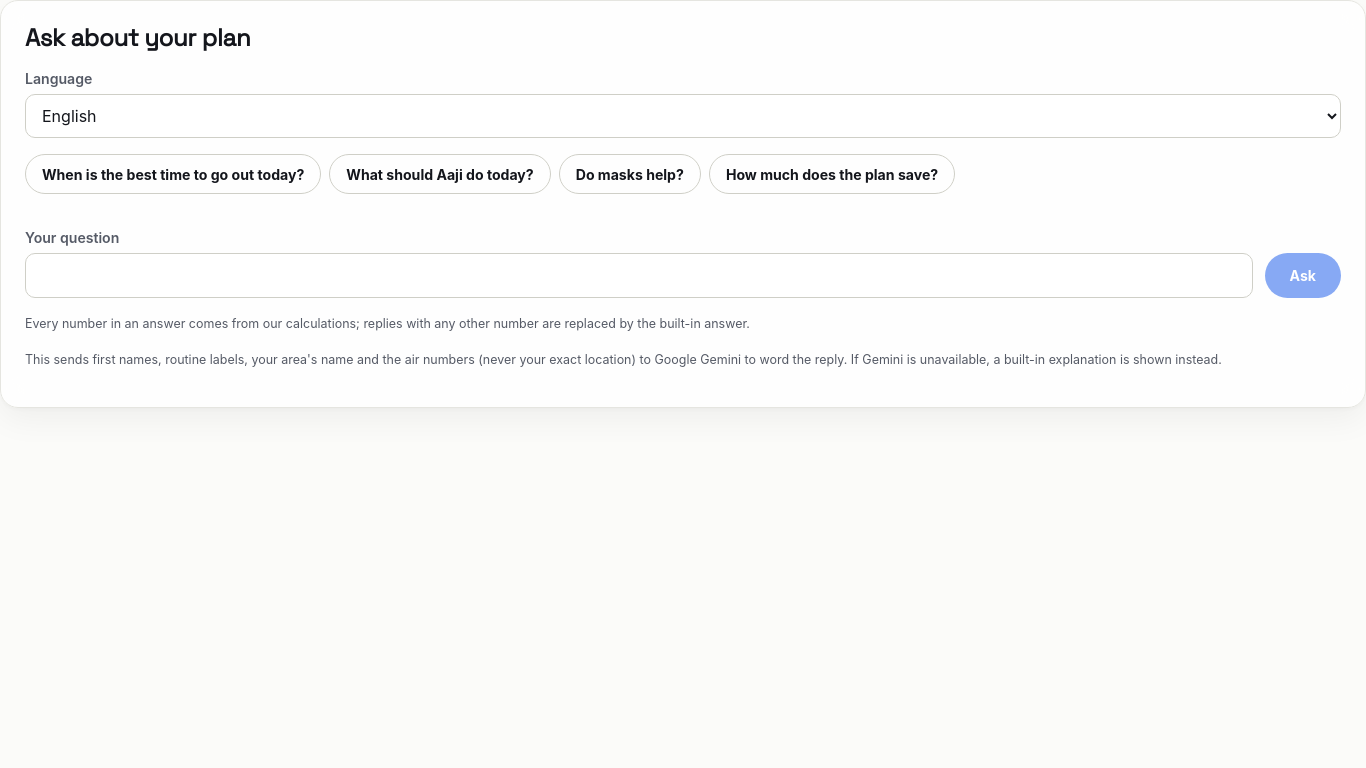
Test case: AskView › answers a suggestion chip
The image size is (1366, 768).
Click the button "Do masks help?" at (630, 174), box x1=559 y1=154 x2=701 y2=194
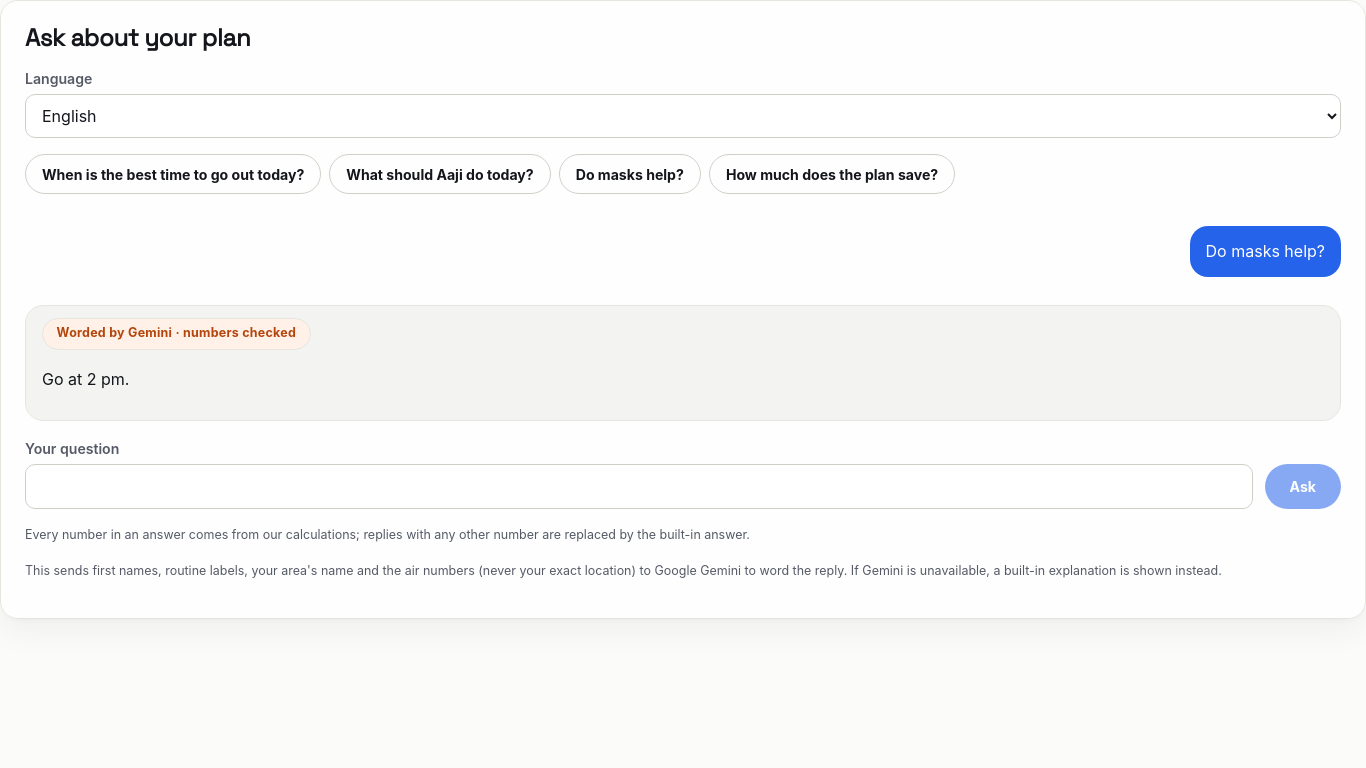
Check: the text "Go at 2 pm." is shown, box x1=42 y1=369 x2=129 y2=389
Check: the text "Do masks help?" is shown, box x1=1190 y1=226 x2=1341 y2=276
